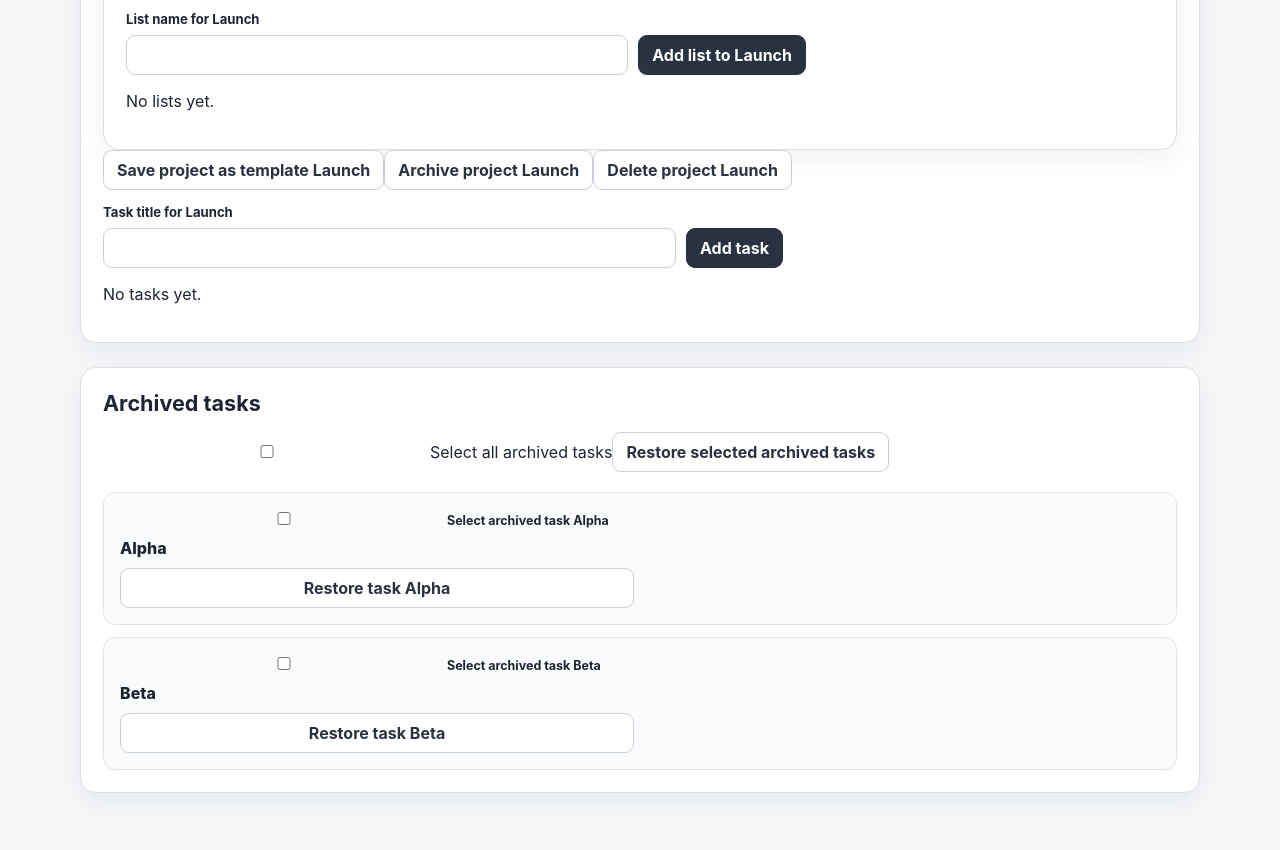
Test: WorkspaceRoot bulk Task restore › selects visible archived roots, restores them in one bulk action, and clears the archived selection
This screenshot has width=1280, height=850.
(page scrolled)
Click the checkbox labelled "Select all archived tasks". click: (267,452)
box: [107,445,427,458]
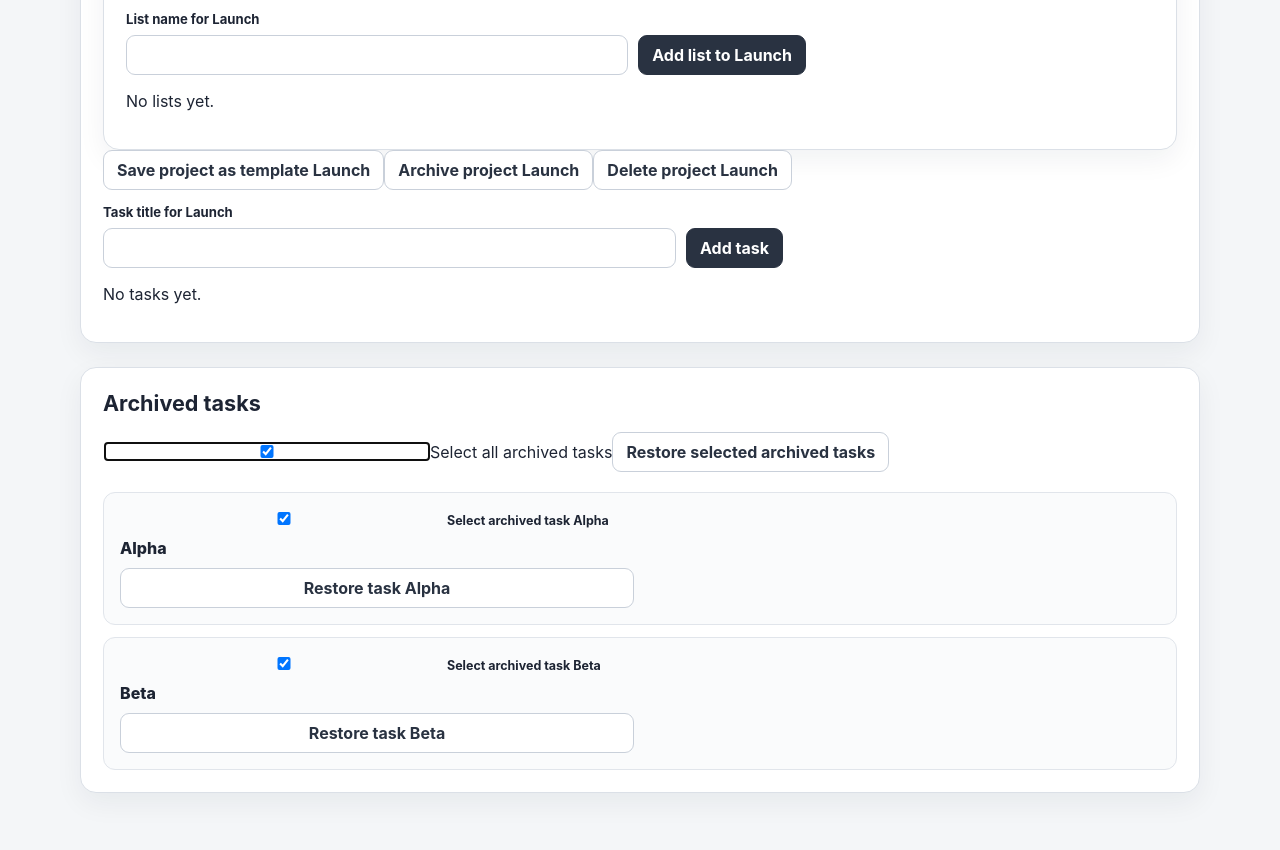
Click the button "Restore selected archived tasks". click: (751,452)
box: [612,432,889,472]
(page scrolled)
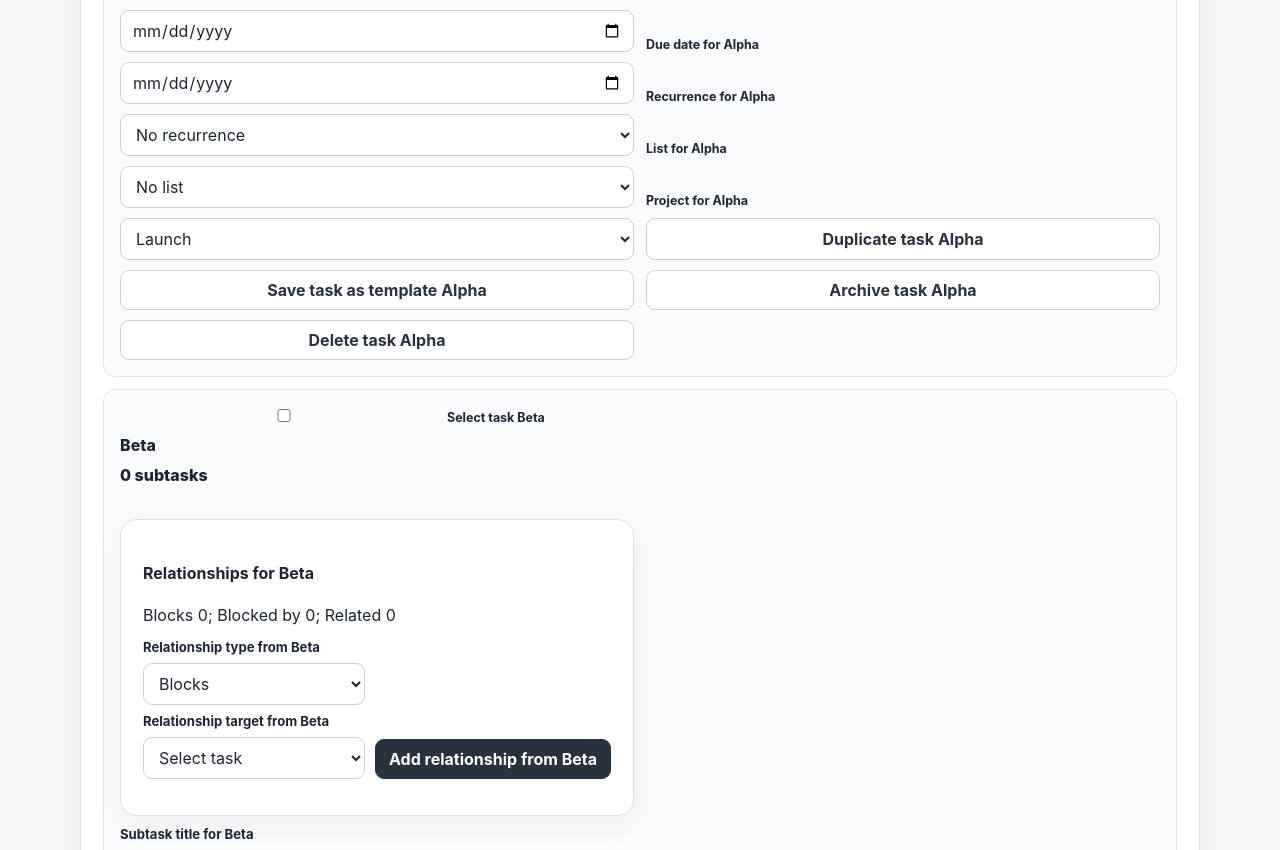
Expected: the text "Archived tasks" is not shown
Expected: the checkbox labelled "Select task Beta" is shown, [124,409,444,422]
